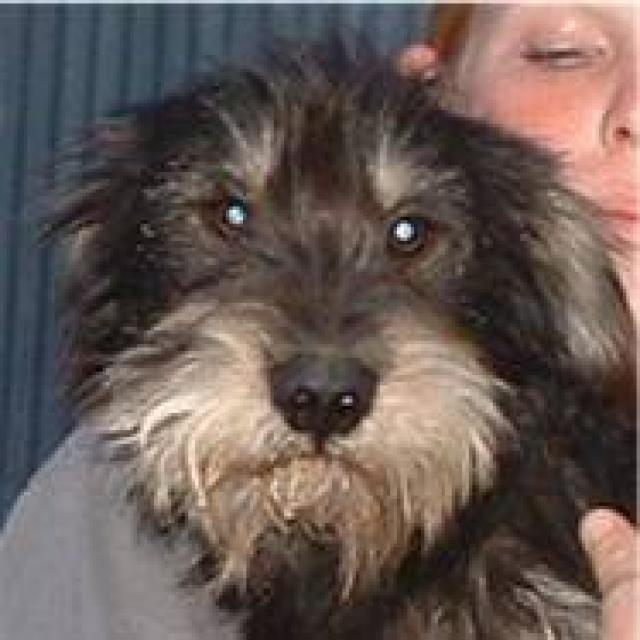dog: (31, 28, 636, 636)
